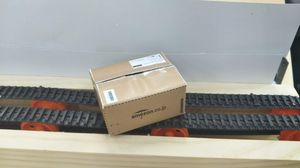box1: (89, 49, 186, 135)
